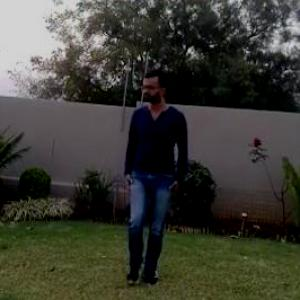follow: (114, 64, 188, 292)
